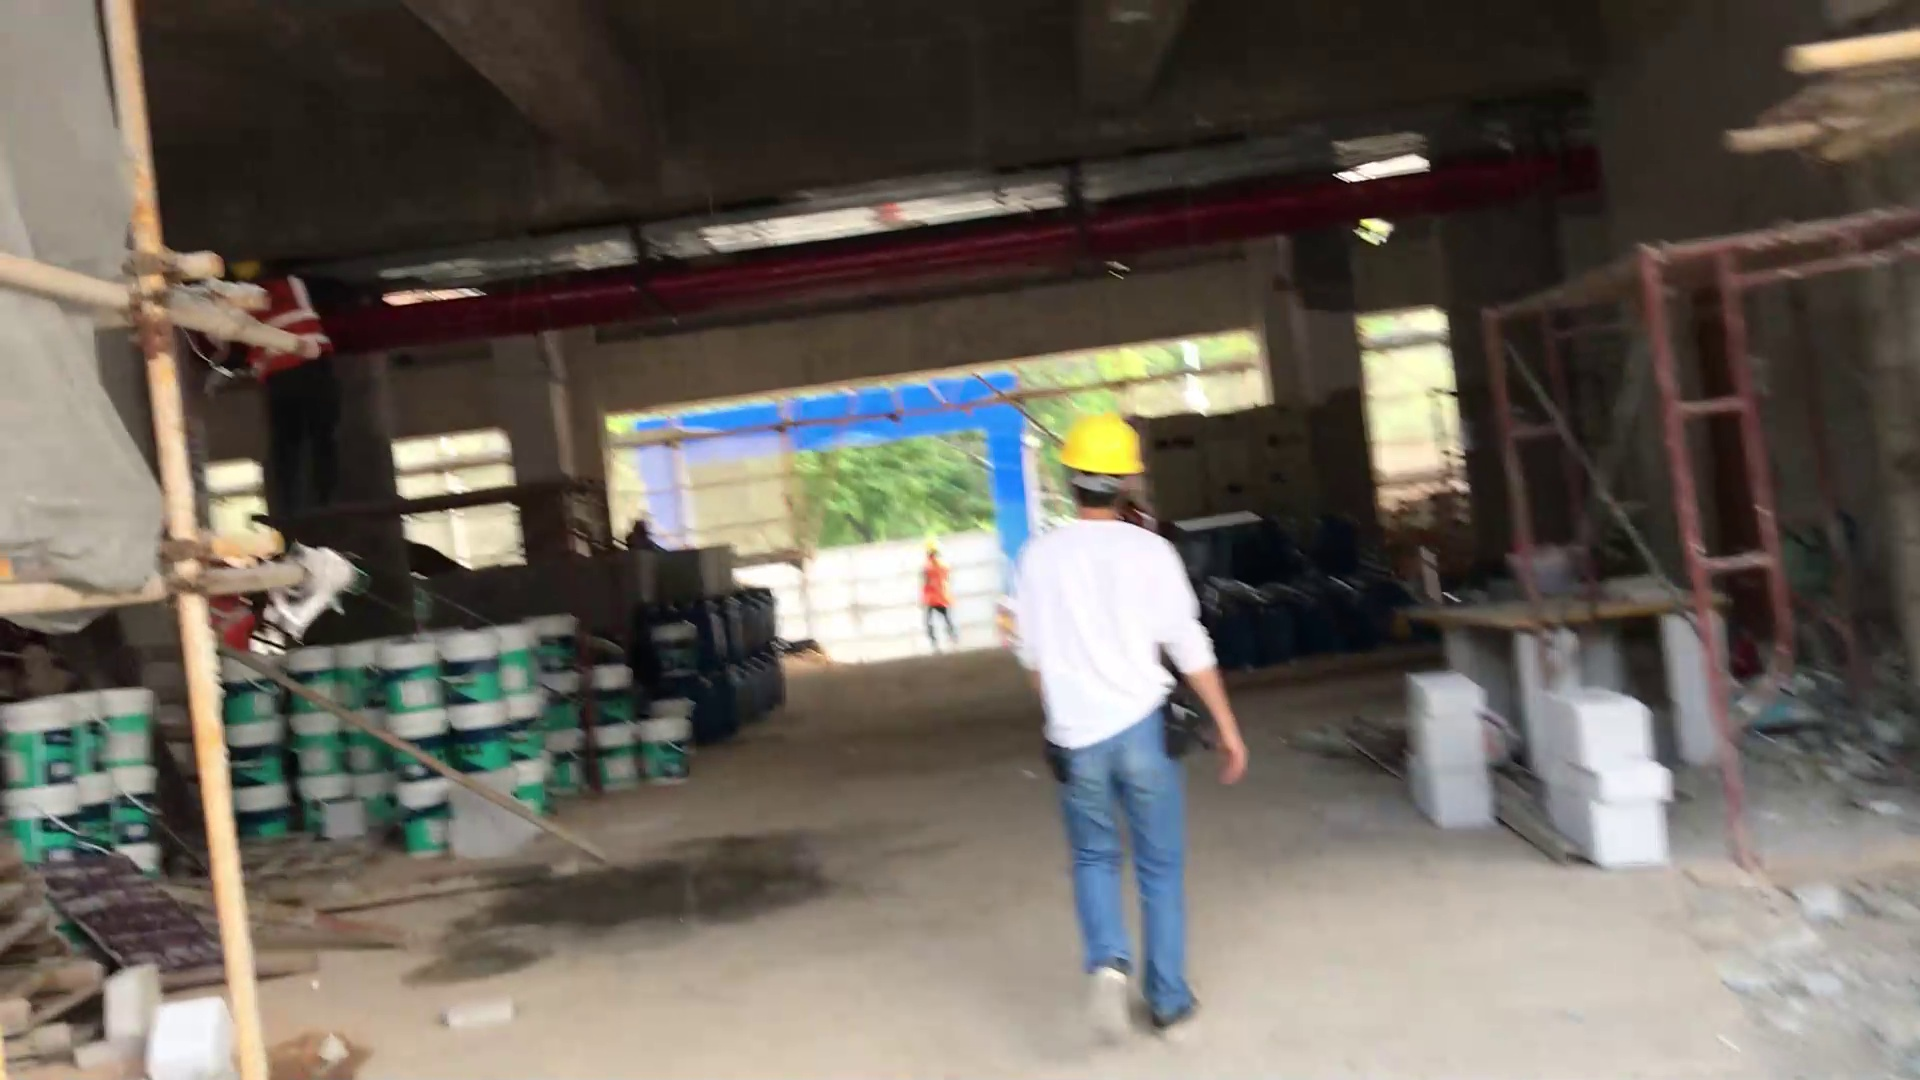helmet: (1054, 404, 1151, 479)
person: (1017, 391, 1234, 1048), (218, 261, 367, 550), (915, 538, 955, 657)
